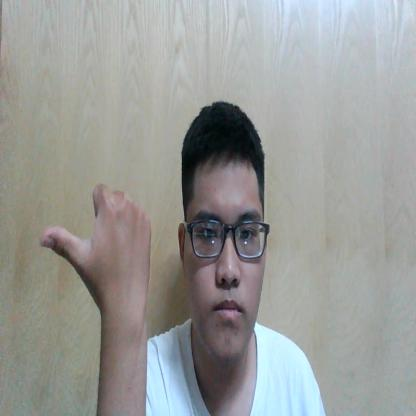right: (40, 183, 154, 312)
